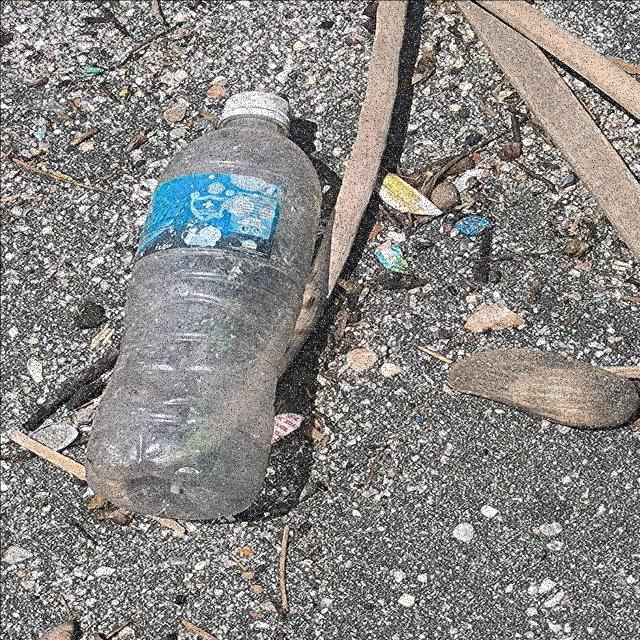plastic_waste: (85, 91, 323, 520)
